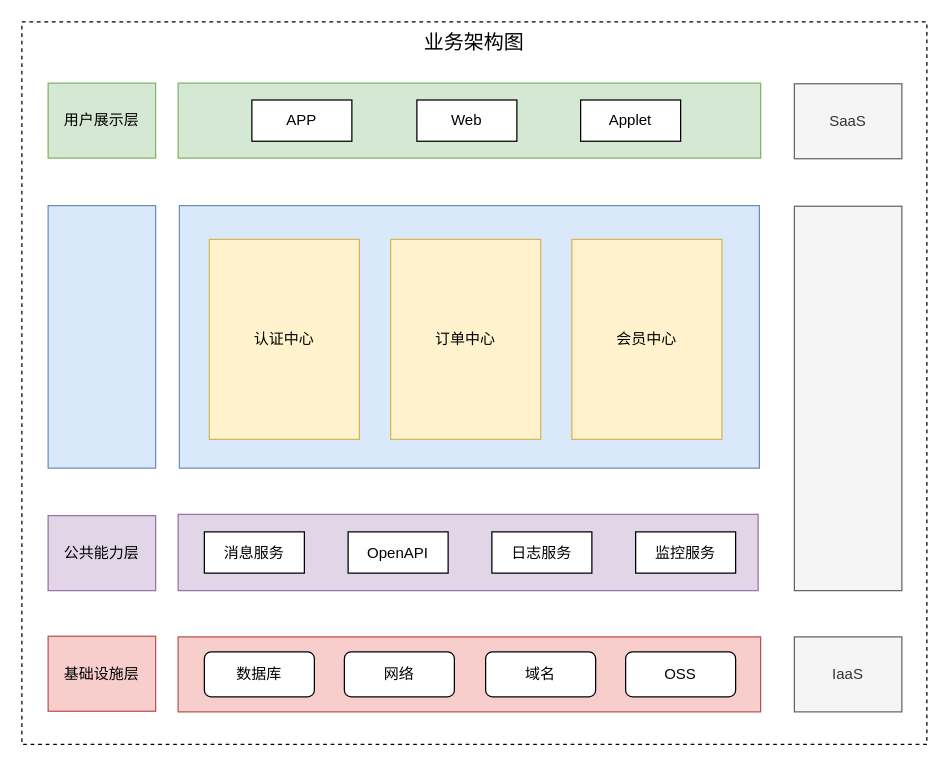
This 949x766 diagram has some shape labels left out. The centre of each missing label's shape, as x and y in pixels:
PaaS: point 847,398
业务应用层: point 101,336
